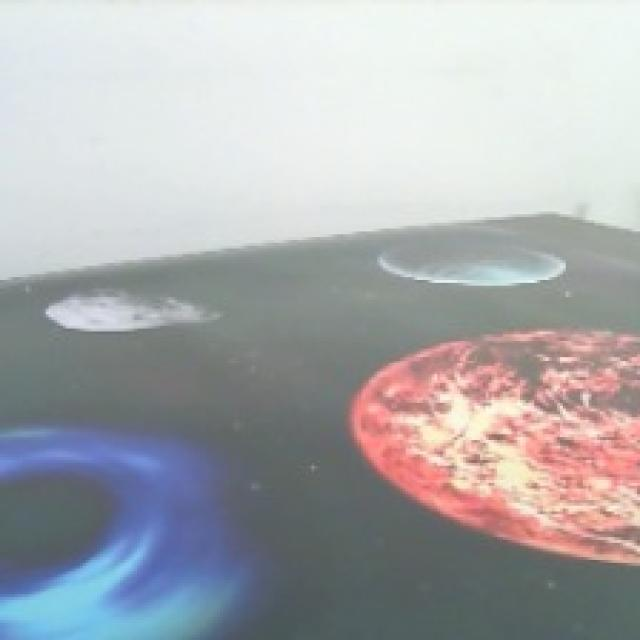Asteroid: (46, 286, 223, 338)
Black Hole: (0, 413, 243, 640)
Earth: (377, 240, 566, 290)
Sun: (349, 323, 640, 572)
